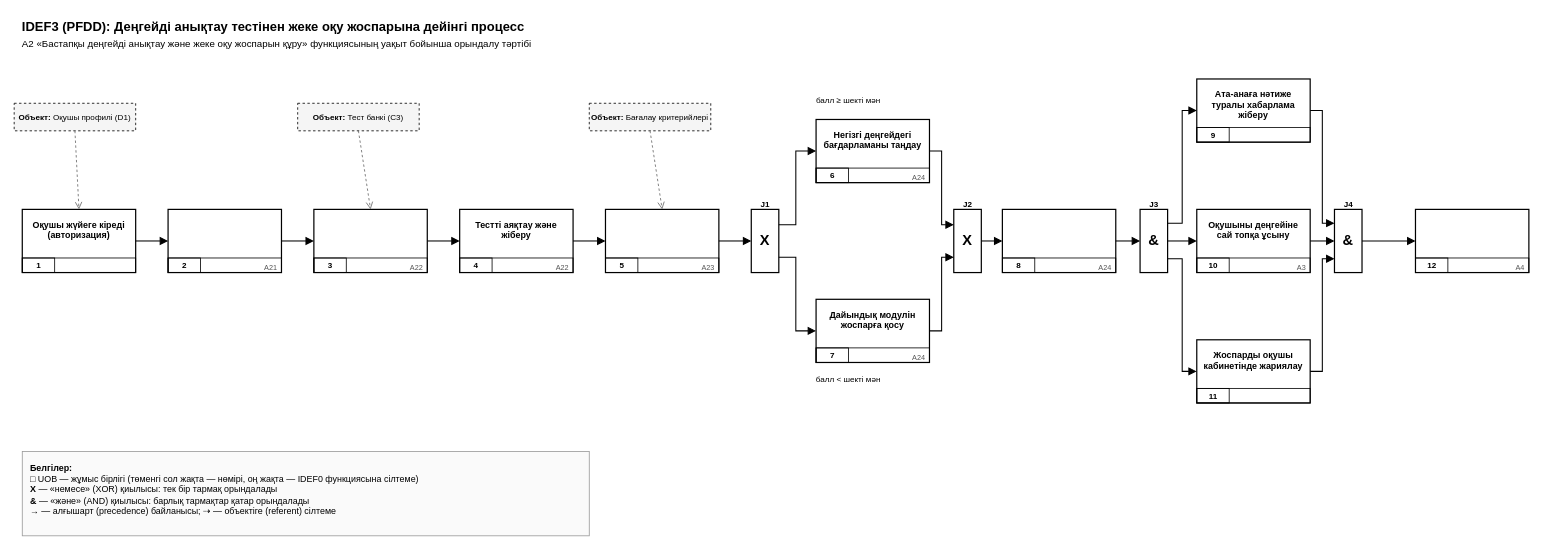
This 1559x550 diagram has some shape labels left out. The shapes that lost their labels are listed below. From the top down, each one's box as (x1, y1, x2, y2) in pixels, then its label:
(167, 208, 282, 273): Деңгейді анықтау тестін бастау
(313, 208, 428, 273): Сұрақтарға жауап беру
(605, 208, 719, 273): Нәтижені автоматты бағалау
(1001, 208, 1116, 273): Жеке оқу жоспарын құру
(1415, 208, 1529, 273): Оқуды бастау (бірінші сабаққа рұқсат)
